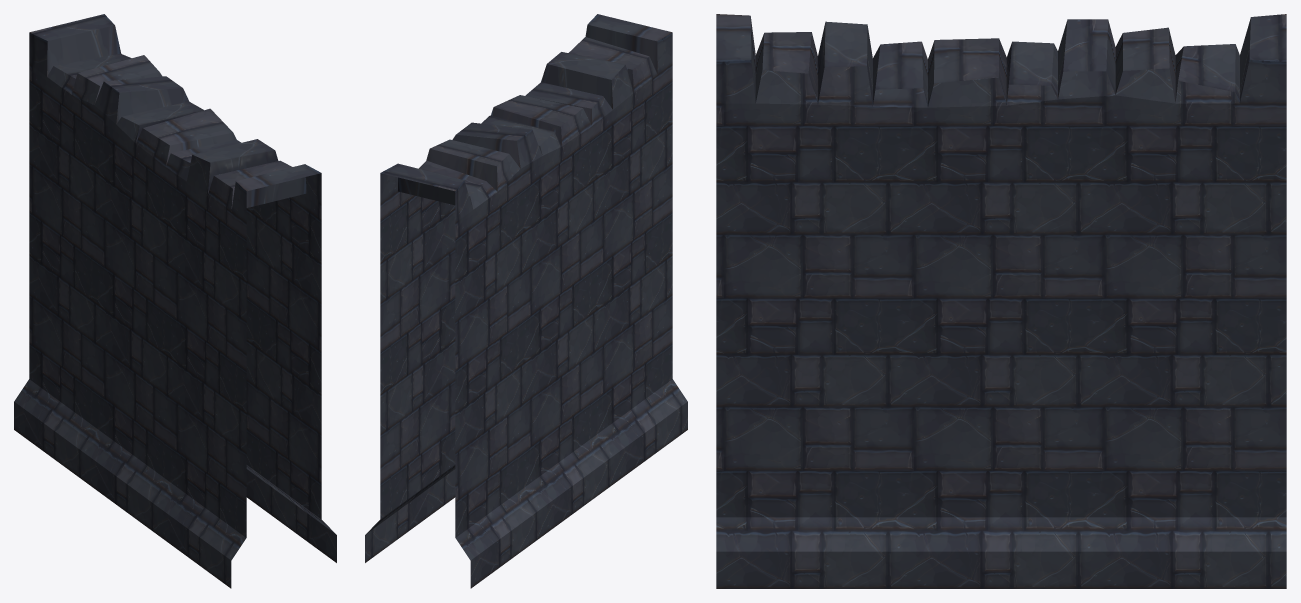
The model's file is Ruins_Wall_004.fbx.
3 renders of one model, left to right at view 1: azimuth 30°, elevation 25°; view 2: azimuth 150°, elevation 25°; view 3: azimuth 270°, elevation 25°, orthographic. The views are drawn at different scales.
Visible parts, largest first — view 1: Ruins_Wall_004; view 2: Ruins_Wall_004; view 3: Ruins_Wall_004.
Part boxes in pixels (bbox=[...]): Ruins_Wall_004: bbox=[14, 14, 336, 588]; Ruins_Wall_004: bbox=[365, 14, 687, 588]; Ruins_Wall_004: bbox=[716, 14, 1286, 588].
Size of the model in its own units: 1.4 by 5 by 5.
1 material, 1 textured.
